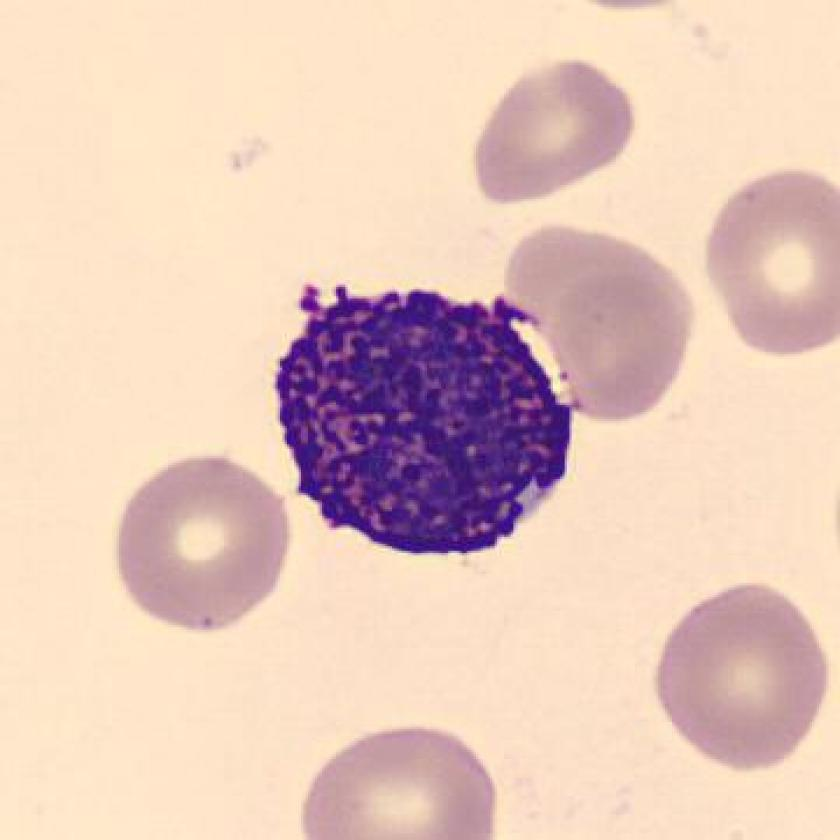basophil: (267, 274, 589, 568)
